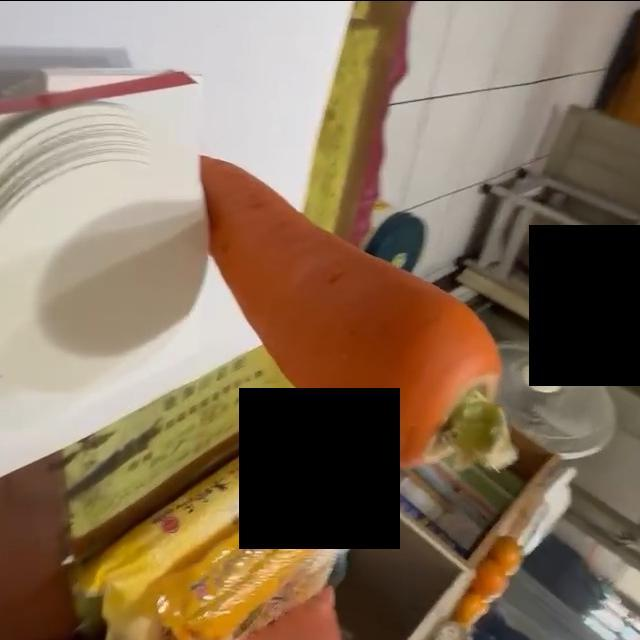carrot: (199, 157, 517, 472)
